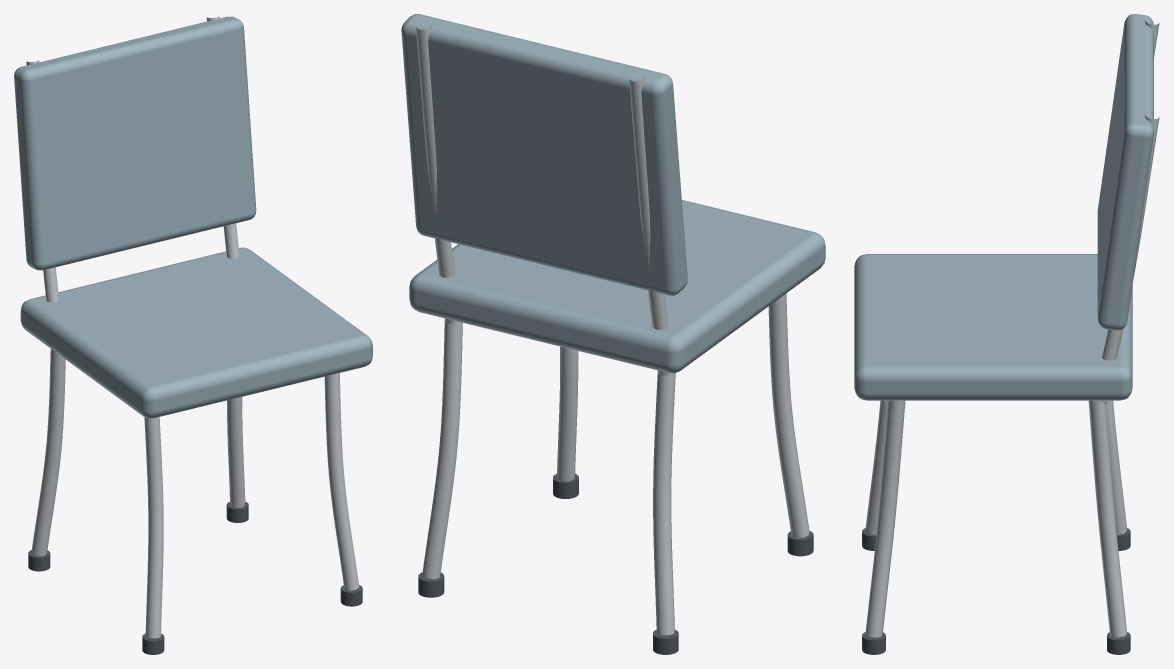
Rendered from dining-chair.glb.
The picture shows the model from 3 angles, left to right: view 1: azimuth 30°, elevation 25°; view 2: azimuth 150°, elevation 25°; view 3: azimuth 270°, elevation 25°; orthographic projection. The views are drawn at different scales.
Visible parts, largest first — view 1: dining-chair; view 2: dining-chair; view 3: dining-chair.
Boxes of the visible parts, bbox=[...] form: dining-chair: bbox=[14, 16, 372, 654]; dining-chair: bbox=[401, 14, 825, 654]; dining-chair: bbox=[854, 14, 1159, 654].
Size of the model in its own units: 0.45 by 0.92 by 0.48.
